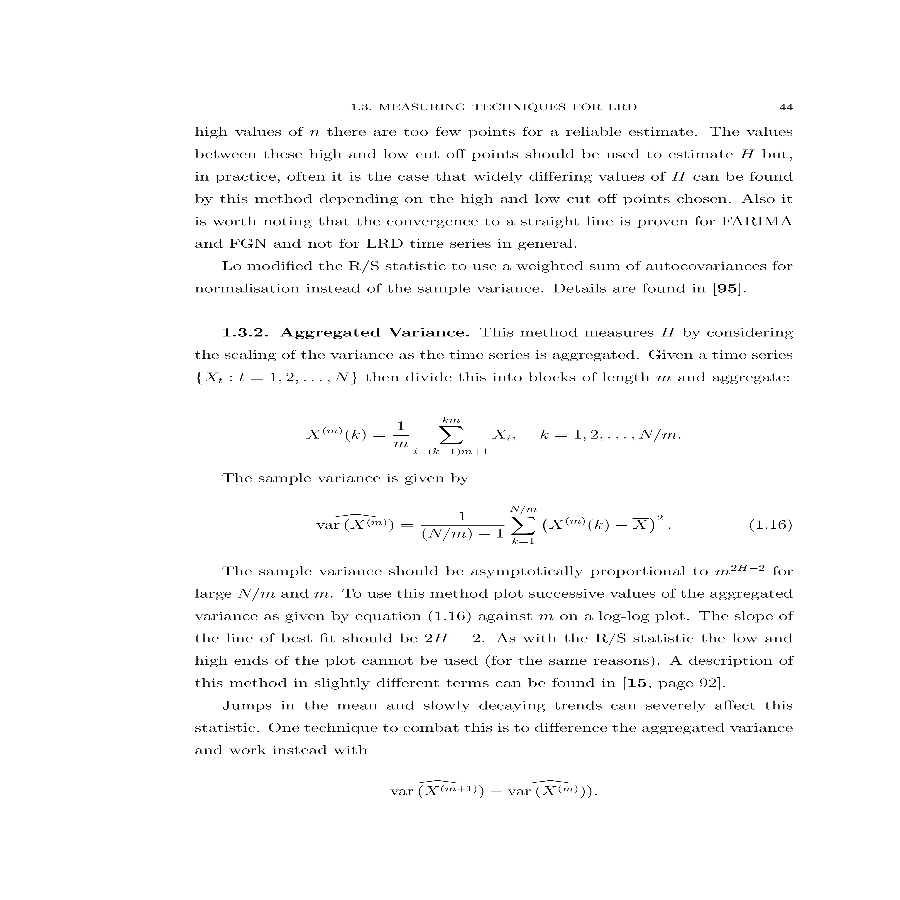eq: (317, 503, 668, 549), (303, 412, 677, 454), (387, 777, 592, 806)
